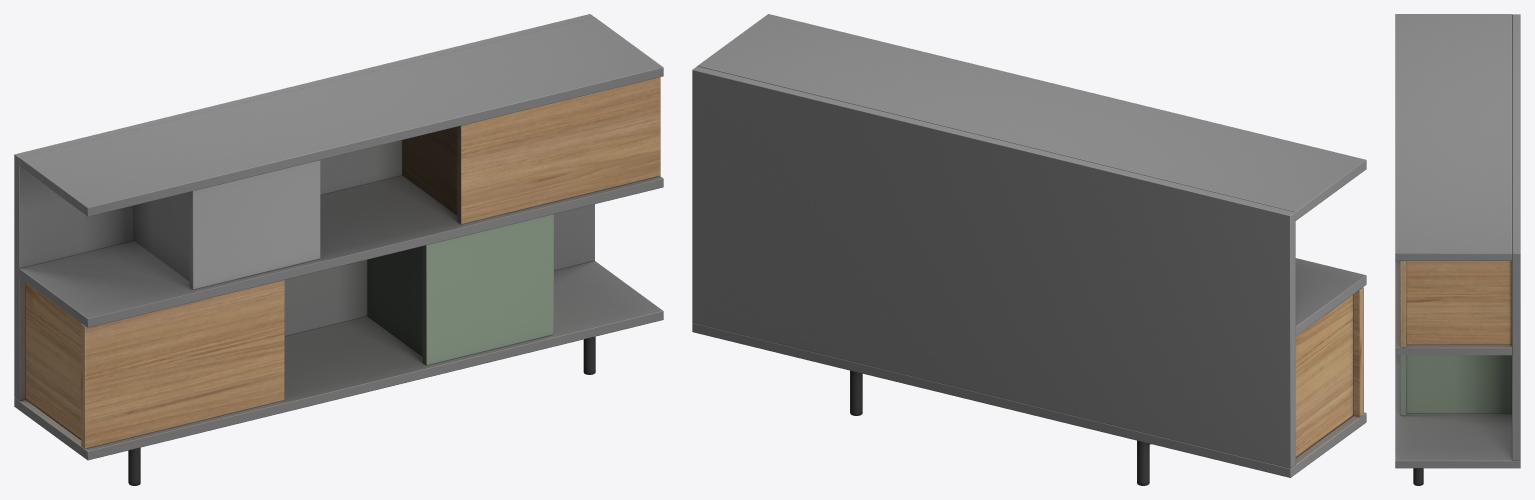
3 renders of one model, left to right at view 1: azimuth 30°, elevation 25°; view 2: azimuth 150°, elevation 25°; view 3: azimuth 270°, elevation 25°, orthographic. The views are drawn at different scales.
Parts seen in each view (by area): view 1: GREY, DARK_BLUE, LIGHT_BLUE, YELLOW, Material__31_1; view 2: GREY, DARK_BLUE, Material__31_1; view 3: GREY, DARK_BLUE, LIGHT_BLUE, Material__31_1.
Boxes of the visible parts, <box> form: GREY: <box>14,14,663,460</box>; DARK_BLUE: <box>26,77,660,448</box>; LIGHT_BLUE: <box>367,214,553,365</box>; YELLOW: <box>134,160,320,289</box>; Material__31_1: <box>128,336,595,485</box>; GREY: <box>692,14,1366,477</box>; DARK_BLUE: <box>1295,287,1363,457</box>; Material__31_1: <box>850,370,1151,485</box>; GREY: <box>1395,14,1520,468</box>; DARK_BLUE: <box>1400,261,1511,347</box>; LIGHT_BLUE: <box>1400,355,1511,415</box>; Material__31_1: <box>1413,468,1423,485</box>.
Size of what is drawn, in the model's own units: 160 by 79.77 by 35.38.
6 materials, 5 textured.
